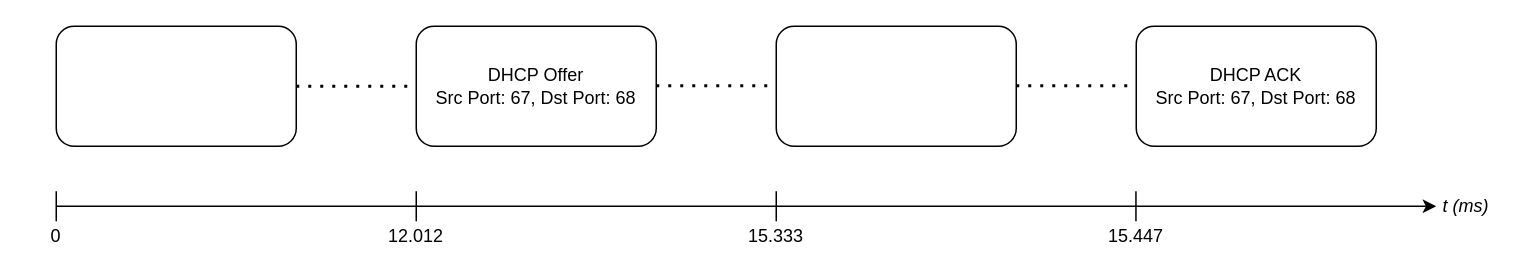
The diagram is 1521 pixels wide and 278 high, and some of its shapes have lost their labels. The shapes that lost their labels are listed below. From the top down, each one's centre as x and y in pixels, then its label:
(x=175, y=85): DHCP Release Src Port: 68, Dst Port: 67
(x=895, y=85): DHCP Request Src Port: 68, Dst Port: 67
